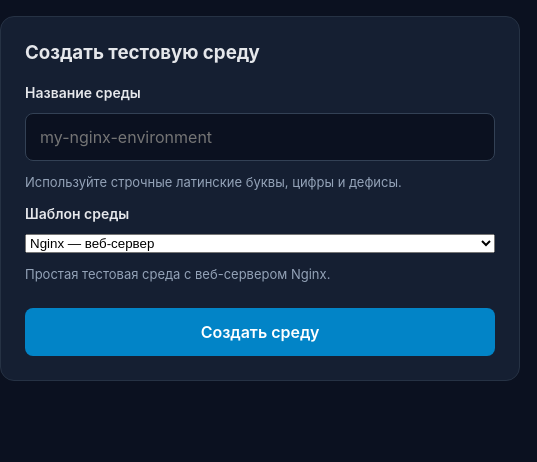
Test: CreateEnvironmentForm › показывает ошибку при ответе 422
In the field labelled "Название среды": (260, 137) [25,113,495,161], type "test-nginx"
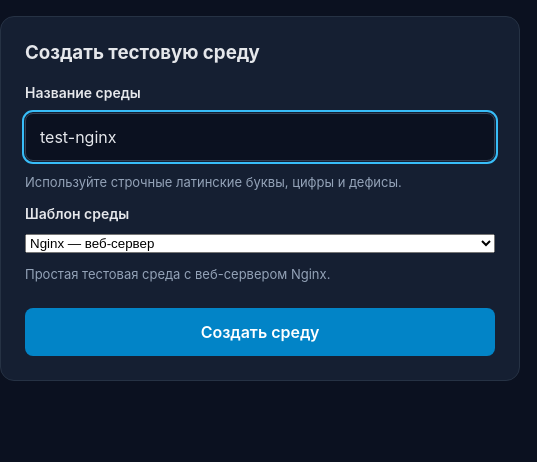
Click the button "Создать среду": (260, 332) [25,308,495,356]
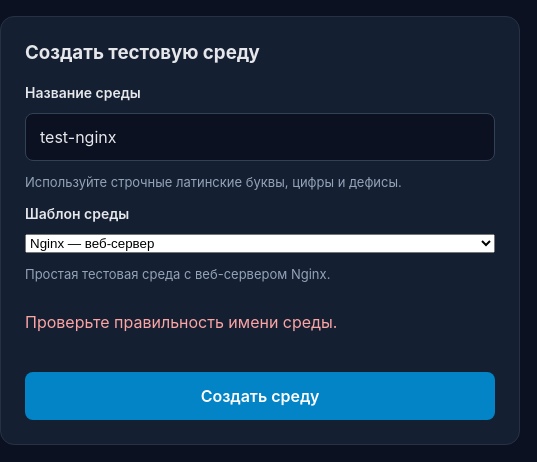
Expected: the message reads "Проверьте правильность имени среды.", [25,312,337,332]
